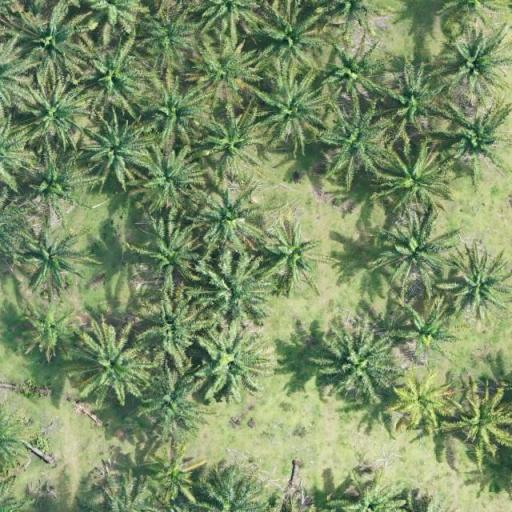Ganoderma: (24, 233, 80, 283), (264, 231, 318, 282), (400, 307, 452, 356), (394, 378, 446, 426), (24, 310, 73, 351), (157, 461, 190, 495)
